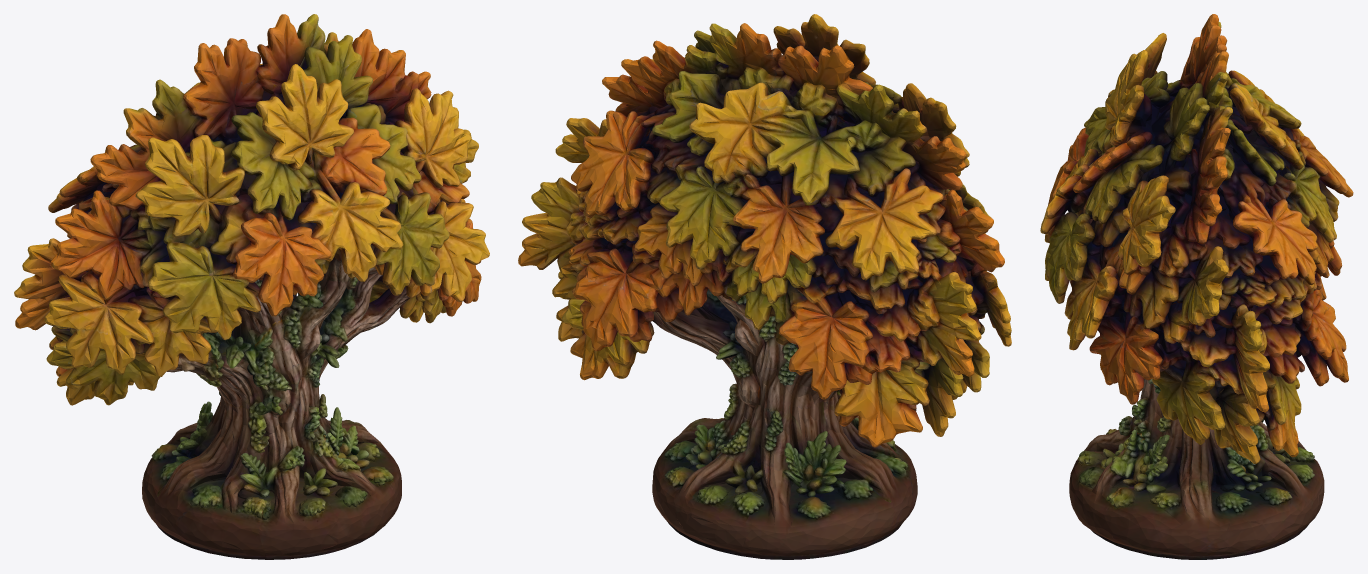
File: bigleaf-maple.glb
The picture shows the model from 3 angles, left to right: view 1: azimuth 30°, elevation 25°; view 2: azimuth 150°, elevation 25°; view 3: azimuth 270°, elevation 25°; orthographic projection. The views are drawn at different scales.
Parts seen in each view (by area): view 1: world; view 2: world; view 3: world.
Boxes of the visible parts, x1,y1,x2,y2 form: world: (14, 14, 489, 559); world: (518, 14, 1011, 559); world: (1040, 14, 1353, 559).
Size of the model in its own units: 0.9839 by 0.9998 by 0.6003.
Materials: 1 (1 with a texture image).
